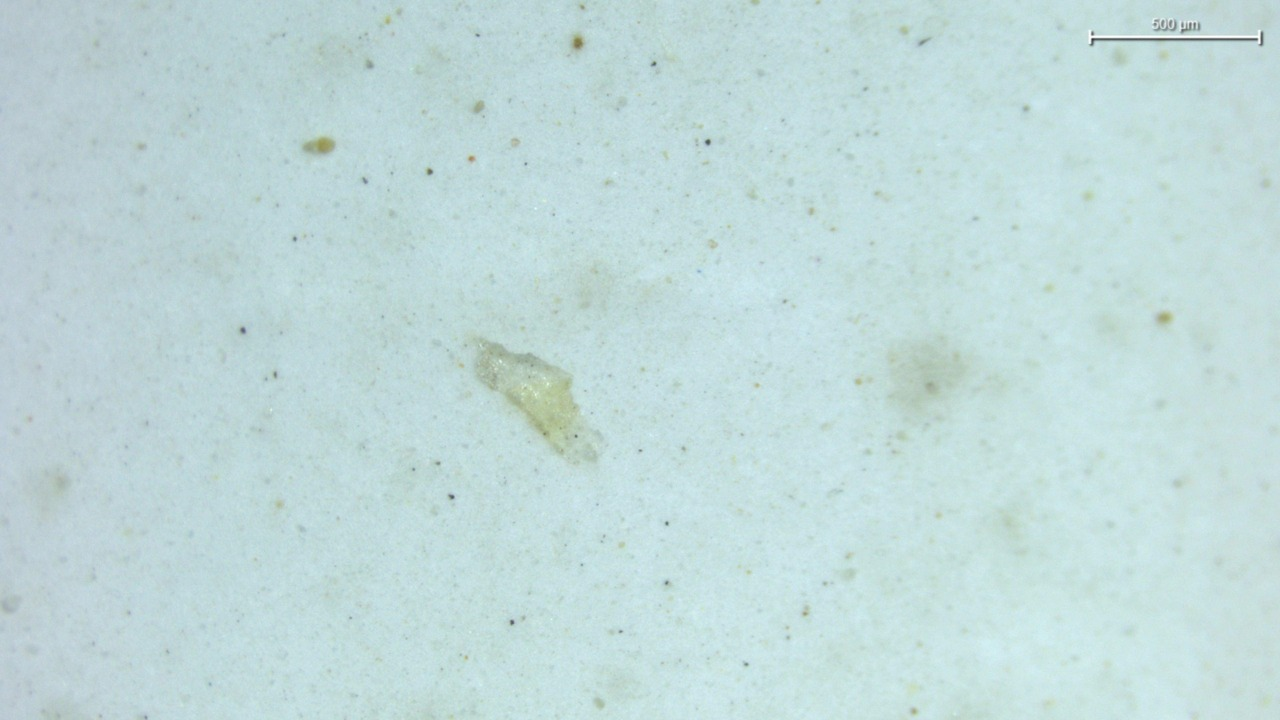microplastic_fragment: (475, 338, 601, 462)
